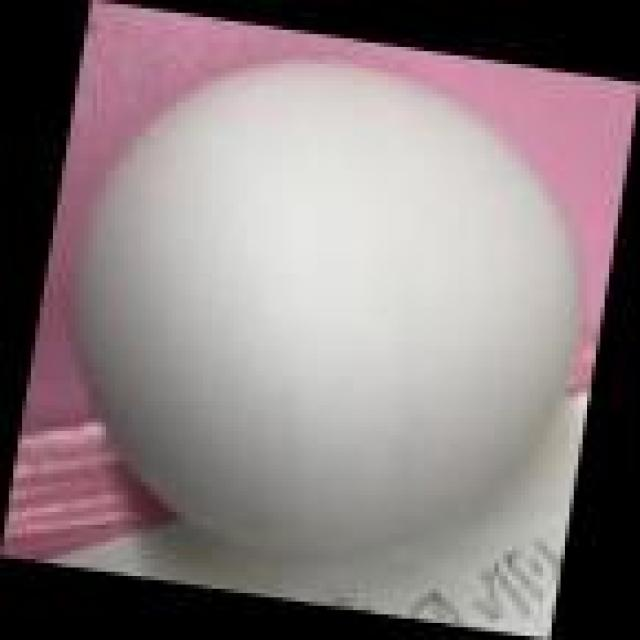Egg: (35, 53, 602, 580)
